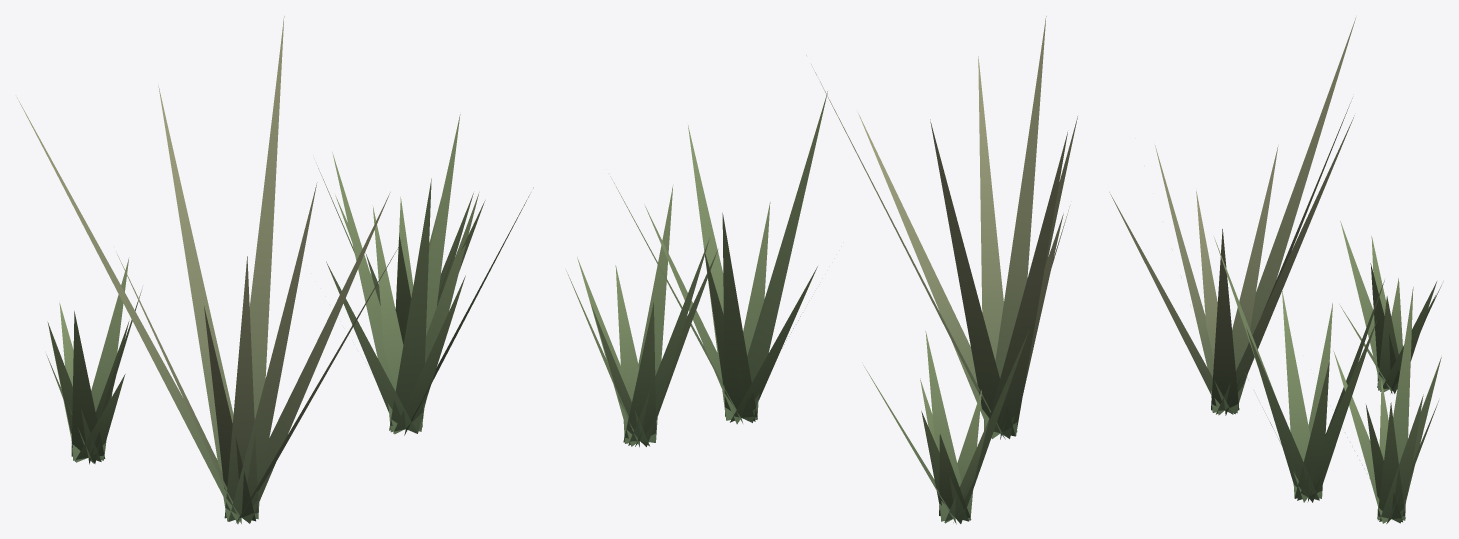
Rendered from touceira_capim.glb.
3 views of the same model, side by side, from view 1: azimuth 30°, elevation 25°; view 2: azimuth 150°, elevation 25°; view 3: azimuth 270°, elevation 25° (orthographic). The views are drawn at different scales.
Parts seen in each view (by area): view 1: Malha_0; view 2: Malha_0; view 3: Malha_0.
Part boxes in pixels (x1,y1,x2,y2): Malha_0: (17,16,533,524); Malha_0: (566,16,1077,524); Malha_0: (1109,18,1441,523).
Bounding box in the file's own units: 1.46 × 1.21 × 1.06.
